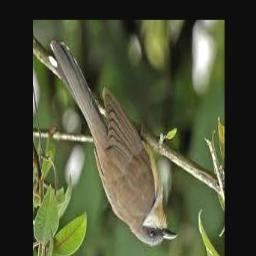Cuckoo: (49, 41, 178, 247)
